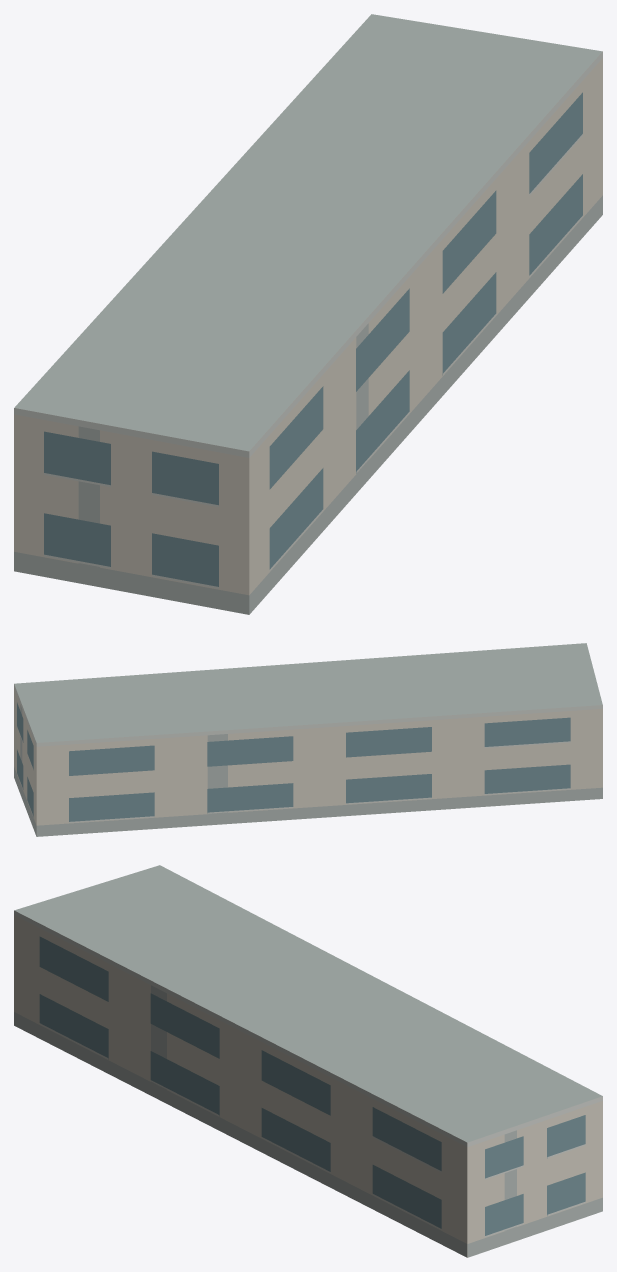
Rendered from survey-upis-32852592.glb.
3 views of the same model, one above another, from view 1: azimuth 30°, elevation 25°; view 2: azimuth 150°, elevation 25°; view 3: azimuth 270°, elevation 25° (orthographic). The views are drawn at different scales.
Visible parts, largest first — view 1: survey-upis-32852592.tmp; view 2: survey-upis-32852592.tmp; view 3: survey-upis-32852592.tmp.
Part boxes in pixels (left/top/right/bottom): survey-upis-32852592.tmp: left=14, top=14, right=602, bottom=614; survey-upis-32852592.tmp: left=14, top=643, right=602, bottom=836; survey-upis-32852592.tmp: left=14, top=865, right=602, bottom=1257.
Size of the model in its own units: 31.53 by 6.1 by 28.27.
